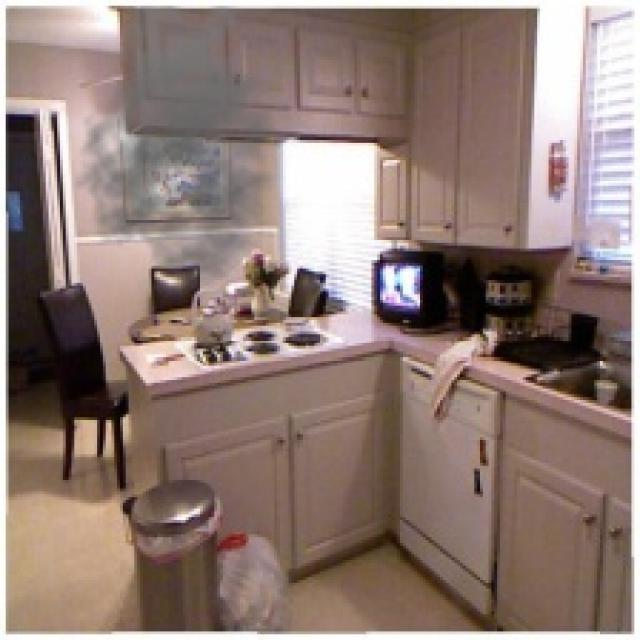Smoke: (71, 6, 300, 286)
